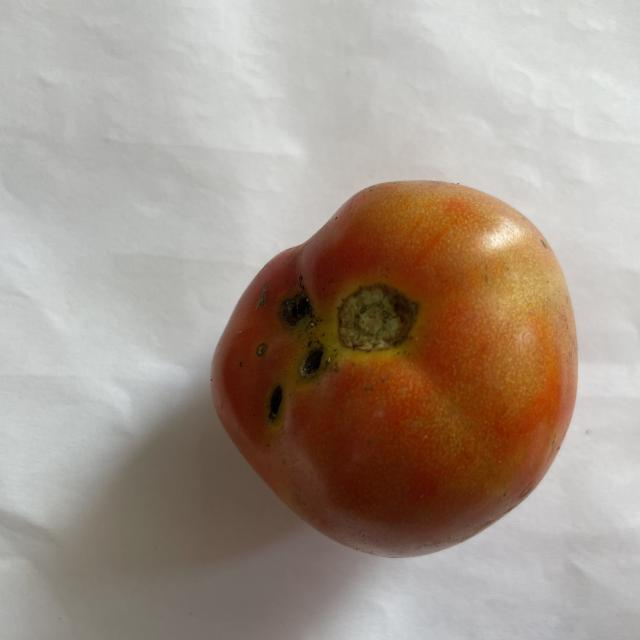fruitworm_bore: (251, 280, 326, 432)
